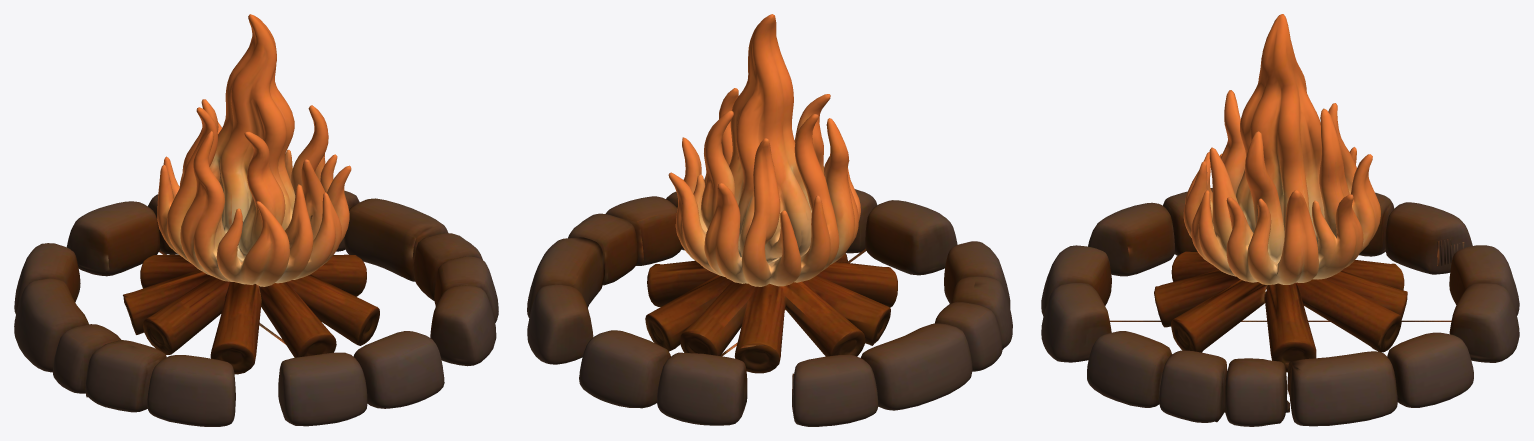
File: a_campfire_pit_b458a85a_v4.glb
3 views of the same model, side by side, from view 1: azimuth 30°, elevation 25°; view 2: azimuth 150°, elevation 25°; view 3: azimuth 270°, elevation 25° (orthographic).
Visible parts, largest first — view 1: material; view 2: material; view 3: material.
Boxes of the visible parts, box(x1,y1,x2,y2) form: material: box(14, 14, 498, 426); material: box(527, 14, 1012, 426); material: box(1041, 14, 1519, 426).
Size of the model in its own units: 1.9 by 1.37 by 1.88.
1 material, 1 textured.
